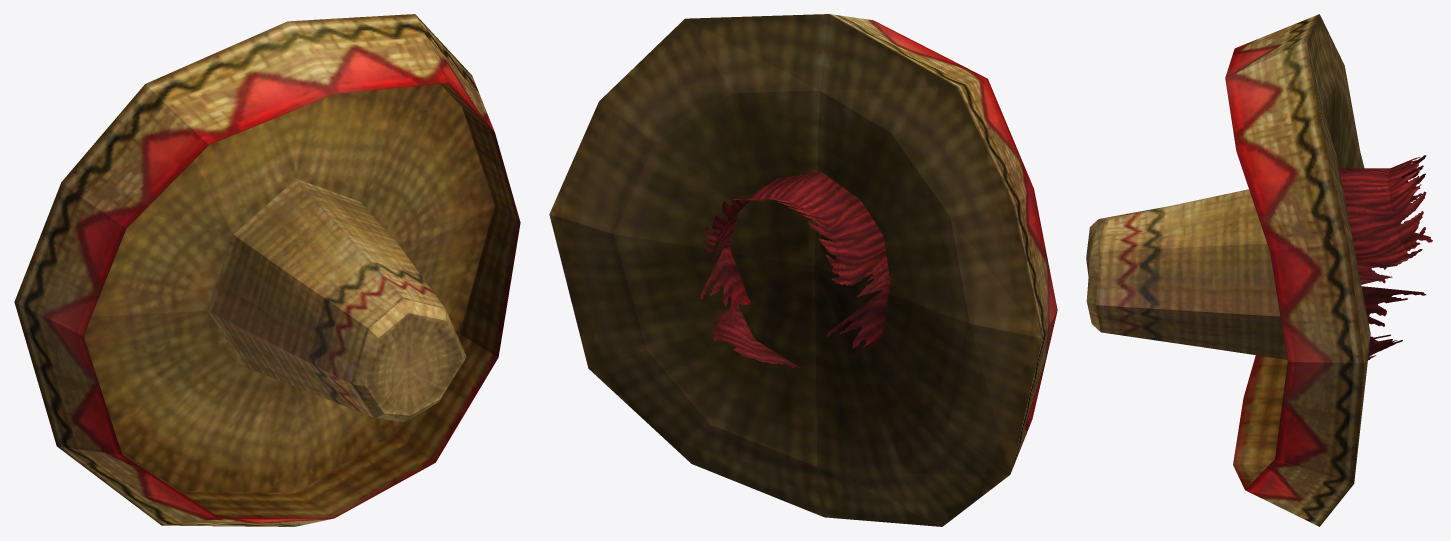
Rendered from common_hair_male_3009.obj.
3 renders of one model, left to right at view 1: azimuth 30°, elevation 25°; view 2: azimuth 150°, elevation 25°; view 3: azimuth 270°, elevation 25°, orthographic. The views are drawn at different scales.
Parts seen in each view (by area): view 1: common_hair_male_3009; view 2: common_hair_male_3009; view 3: common_hair_male_3009.
Part boxes in pixels (left/top/right/bottom): common_hair_male_3009: left=14, top=14, right=520, bottom=526; common_hair_male_3009: left=549, top=14, right=1057, bottom=526; common_hair_male_3009: left=1086, top=14, right=1432, bottom=526.
Size of the model in its own units: 23.4 by 23.05 by 16.13.
Materials: 2 (2 with a texture image).
